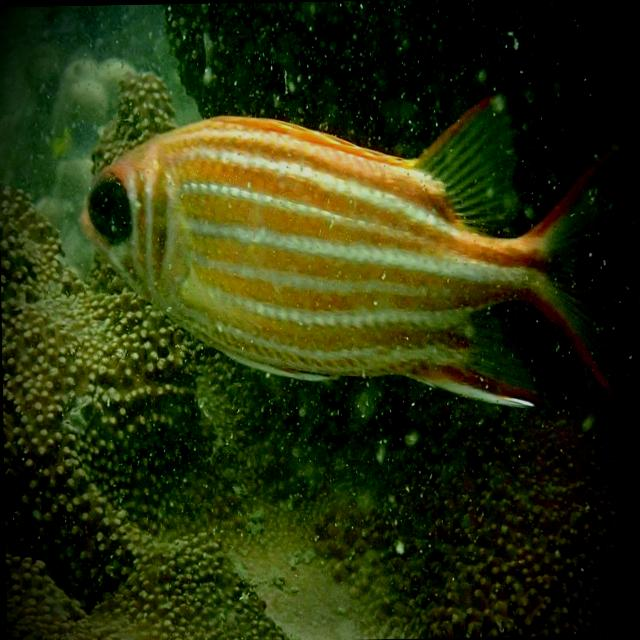Asker Baligi: (62, 68, 636, 438)
